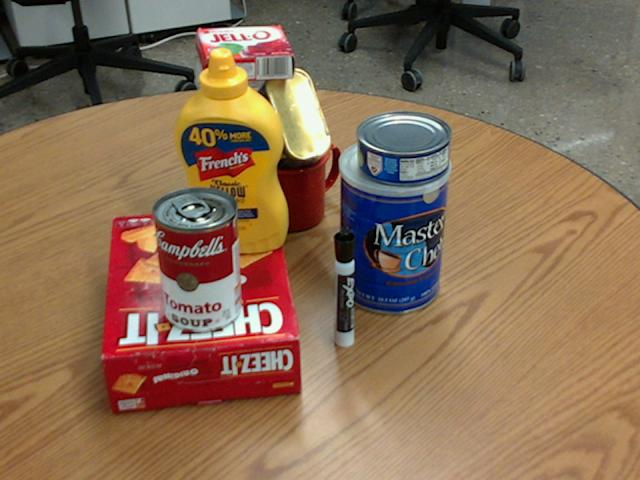cracker_box: (102, 206, 302, 411)
gelatin_box: (197, 26, 293, 82)
large_marker: (333, 228, 355, 347)
master_chef_can: (337, 134, 450, 313)
mug: (246, 129, 342, 230)
mustard_bottle: (172, 48, 286, 252)
potted_meat_can: (241, 69, 330, 186)
sugar_box: (197, 61, 250, 251)
tomato_soup_can: (152, 186, 241, 331)
tuna_fish_can: (356, 110, 451, 184)
